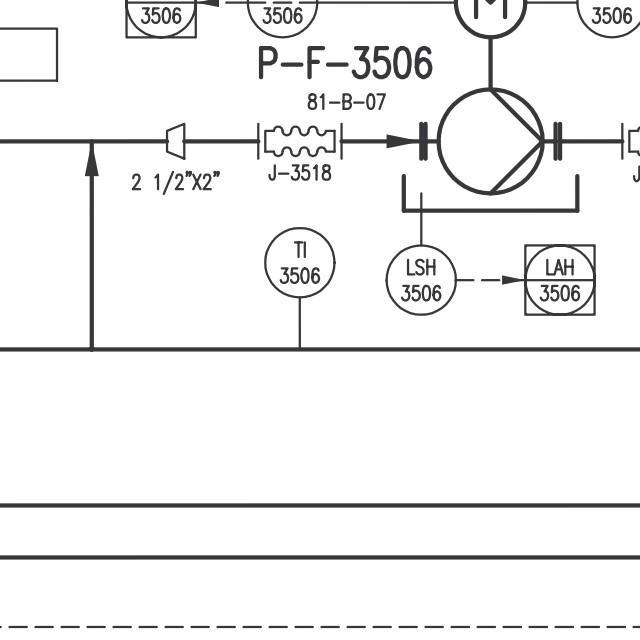EJ: (252, 117, 348, 165)
P: (432, 82, 545, 197)
SP: (159, 119, 192, 164)
